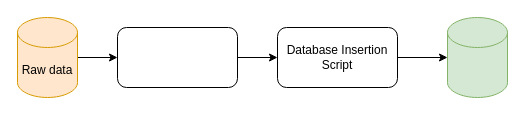
This 525x115 diagram has some shape labels left out. Each missing label, with the centre of its shape:
"Data Validator" goes at pixel 177 57.
"Validated data" goes at pixel 477 57.
